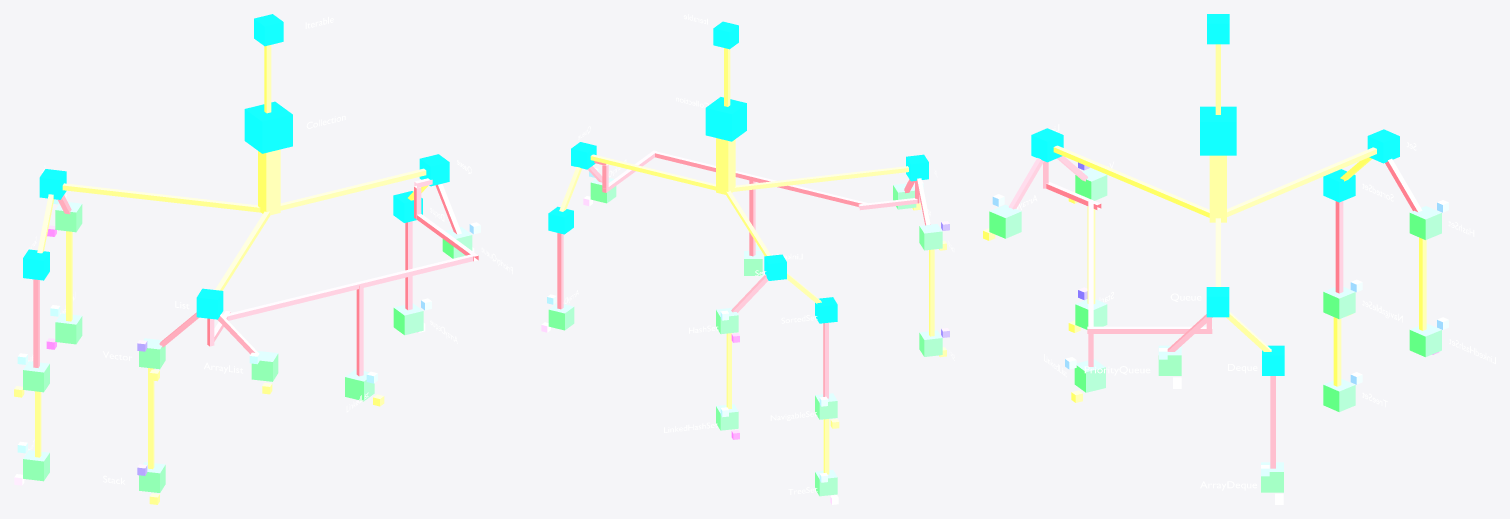
File: CollectionHierarchy.glb
3 renders of one model, left to right at view 1: azimuth 30°, elevation 25°; view 2: azimuth 150°, elevation 25°; view 3: azimuth 270°, elevation 25°, orthographic. The views are drawn at different scales.
Visible parts, largest first — view 1: Collection-Cube, Cube.019, Cube.048, Cube.020, Cube.023, Cube.024, Iterable-Cube, ArrayDeque-Cube, List-Cube, Queue-Cube, SortedSet-Cube, LinkedHashSet-Cube (+16 smaller); view 2: Collection-Cube, Cube.049, Cube.048, Cube.020, Cube.023, Iterable-Cube, ArrayDeque-Cube, Deque-Cube, Cube.024, Vector-Cube, Queue-Cube, Set-Cube (+10 smaller); view 3: Collection-Cube, Cube.049, Cube.019, Cube.048, Cube.026, ArrayList-Cube, HashSet-Cube, LinkedHashSet-Cube, TreeSet, NavigableSet-Cube, List-Cube, Set-Cube (+12 smaller).
Boxes of the visible parts, x1=… form: Collection-Cube: x1=244, y1=101, x2=292, y2=153; Cube.019: x1=62, y1=183, x2=260, y2=212; Cube.048: x1=258, y1=149, x2=280, y2=215; Cube.020: x1=280, y1=168, x2=426, y2=210; Cube.023: x1=225, y1=284, x2=351, y2=320; Cube.024: x1=349, y1=254, x2=473, y2=290; Iterable-Cube: x1=254, y1=14, x2=283, y2=46; ArrayDeque-Cube: x1=393, y1=303, x2=423, y2=335; List-Cube: x1=196, y1=288, x2=223, y2=319; Queue-Cube: x1=419, y1=154, x2=449, y2=186; SortedSet-Cube: x1=23, y1=249, x2=49, y2=280; LinkedHashSet-Cube: x1=55, y1=313, x2=82, y2=344; Collection-Cube: x1=705, y1=97, x2=746, y2=141; Cube.049: x1=734, y1=166, x2=908, y2=191; Cube.048: x1=716, y1=138, x2=735, y2=194; Cube.020: x1=590, y1=154, x2=715, y2=190; Cube.023: x1=759, y1=177, x2=867, y2=206; Iterable-Cube: x1=713, y1=21, x2=738, y2=49; ArrayDeque-Cube: x1=548, y1=303, x2=574, y2=330; Deque-Cube: x1=548, y1=206, x2=573, y2=234; Cube.024: x1=655, y1=151, x2=761, y2=182; Vector-Cube: x1=919, y1=224, x2=942, y2=250; Queue-Cube: x1=571, y1=142, x2=596, y2=169; Set-Cube: x1=764, y1=254, x2=786, y2=280; Collection-Cube: x1=1200, y1=106, x2=1236, y2=155; Cube.049: x1=1053, y1=145, x2=1209, y2=217; Cube.019: x1=1227, y1=147, x2=1376, y2=216; Cube.048: x1=1209, y1=155, x2=1226, y2=222; Cube.026: x1=1087, y1=326, x2=1212, y2=333; ArrayList-Cube: x1=989, y1=204, x2=1021, y2=238; HashSet-Cube: x1=1409, y1=206, x2=1441, y2=239; LinkedHashSet-Cube: x1=1409, y1=323, x2=1441, y2=357; TreeSet: x1=1323, y1=379, x2=1355, y2=411; NavigableSet-Cube: x1=1323, y1=287, x2=1355, y2=319; List-Cube: x1=1031, y1=128, x2=1063, y2=162; Set-Cube: x1=1367, y1=129, x2=1399, y2=163.
Size of the model in its own units: 152 by 168 by 161.
